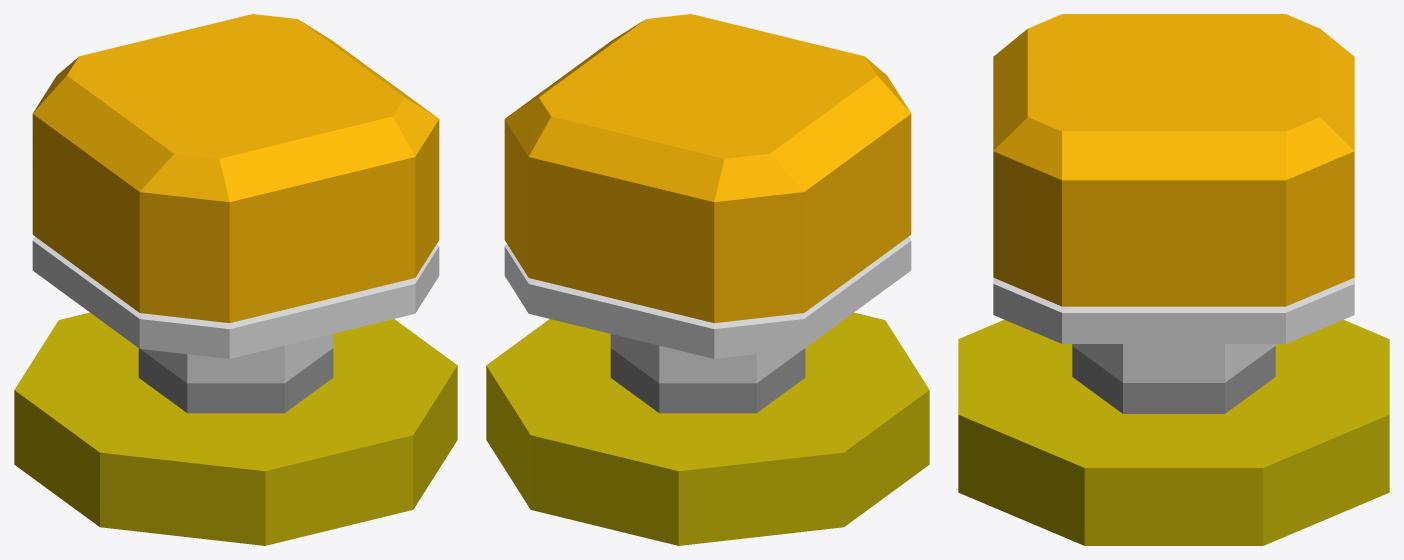
File: fpe_compact_pressure_sensor.dae
3 renders of one model, left to right at view 1: azimuth 30°, elevation 25°; view 2: azimuth 150°, elevation 25°; view 3: azimuth 270°, elevation 25°, orthographic. The views are drawn at different scales.
Visible parts, largest first — view 1: compact_pressure_sensor; view 2: compact_pressure_sensor; view 3: compact_pressure_sensor.
Part boxes in pixels (<box>): compact_pressure_sensor: <box>14,14,457,545</box>; compact_pressure_sensor: <box>486,14,929,545</box>; compact_pressure_sensor: <box>958,14,1389,545</box>.
Size of the model in its own units: 0.1253 by 0.1253 by 0.1225.
